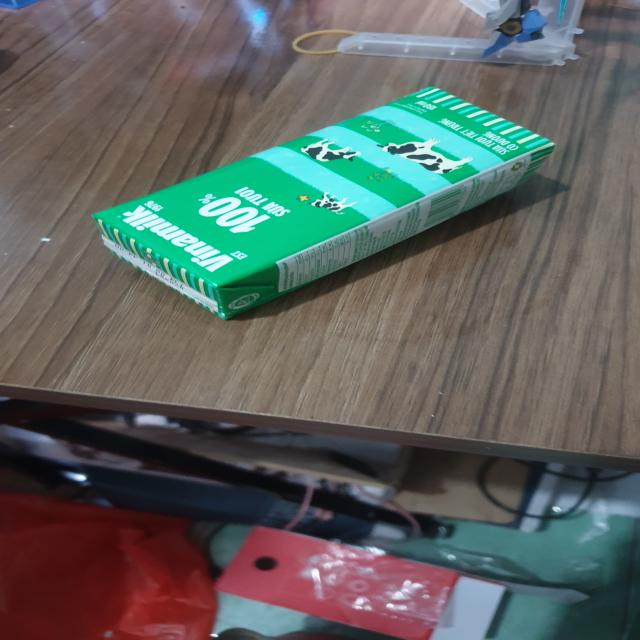Vina: (89, 85, 561, 325)
